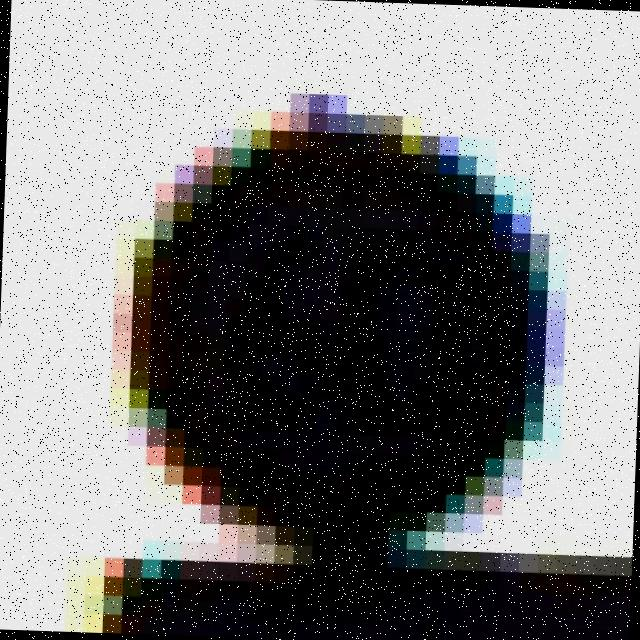Ograniczenie predkosci do 60: (50, 57, 617, 573)
